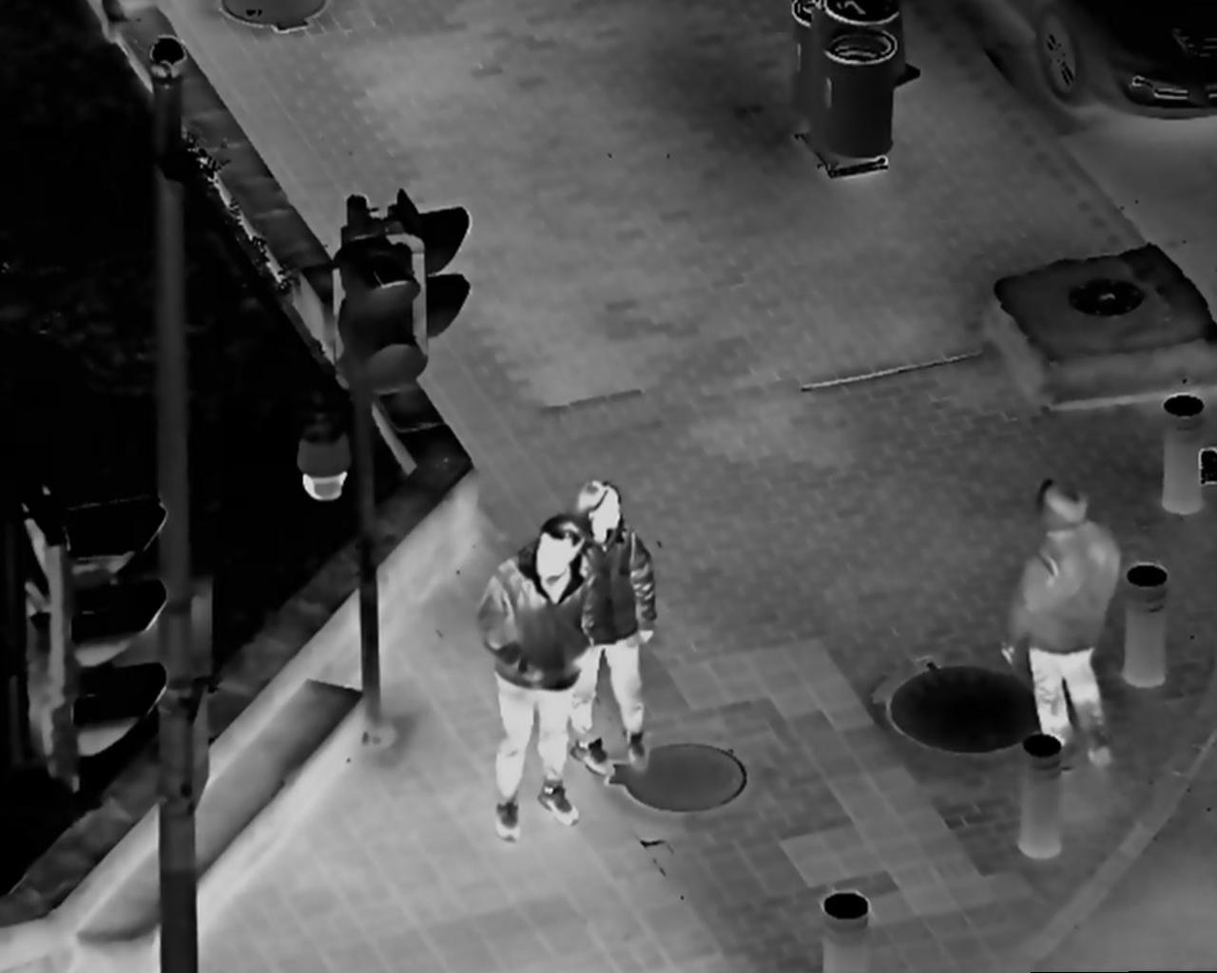person: (470, 513, 599, 849), (1000, 466, 1134, 786), (563, 475, 666, 781)
